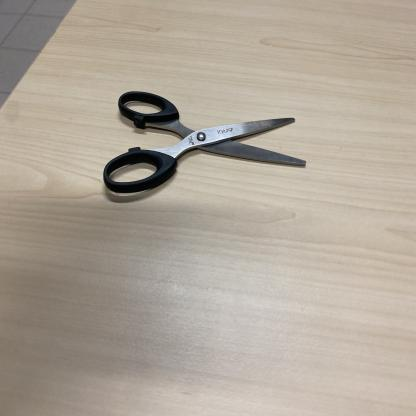scissors: (101, 91, 310, 199)
